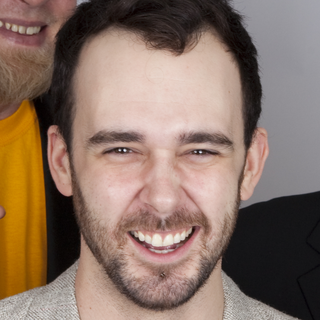eye: (97, 140, 144, 164), (178, 141, 227, 164)
